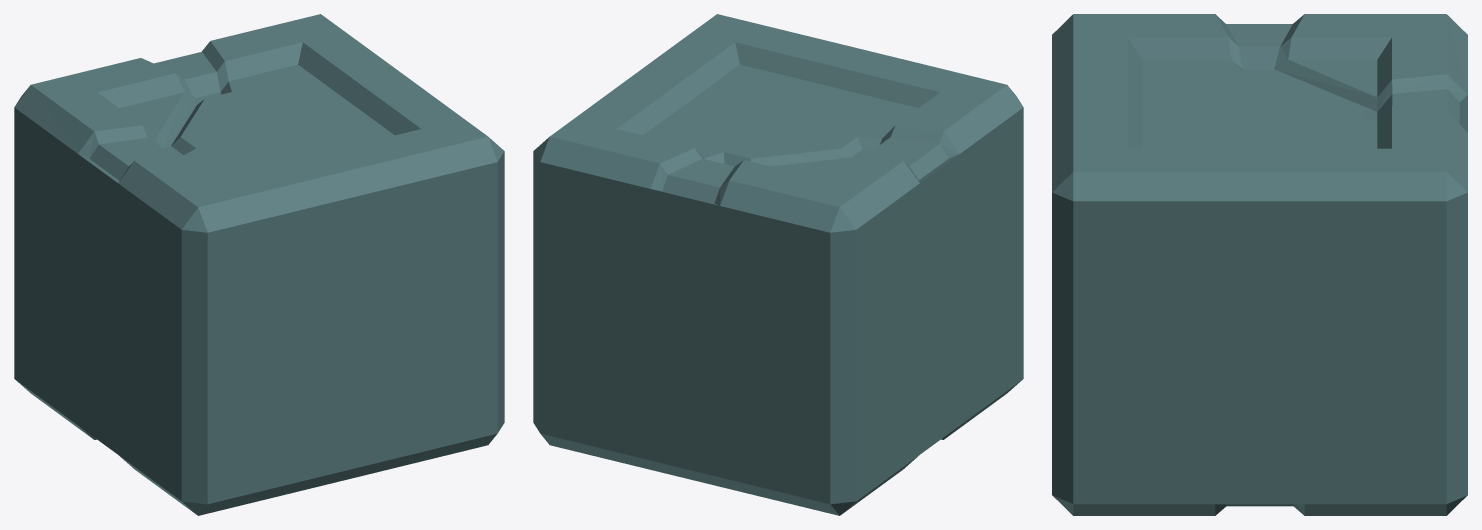
3 renders of one model, left to right at view 1: azimuth 30°, elevation 25°; view 2: azimuth 150°, elevation 25°; view 3: azimuth 270°, elevation 25°, orthographic. The views are drawn at different scales.
Visible parts, largest first — view 1: 002_Cube_006; view 2: 002_Cube_006; view 3: 002_Cube_006.
Part boxes in pixels (bbox=[...]): 002_Cube_006: bbox=[14, 14, 504, 515]; 002_Cube_006: bbox=[533, 14, 1023, 515]; 002_Cube_006: bbox=[1052, 14, 1467, 515].
Size of the model in its own units: 29.14 by 26.61 by 29.14.
